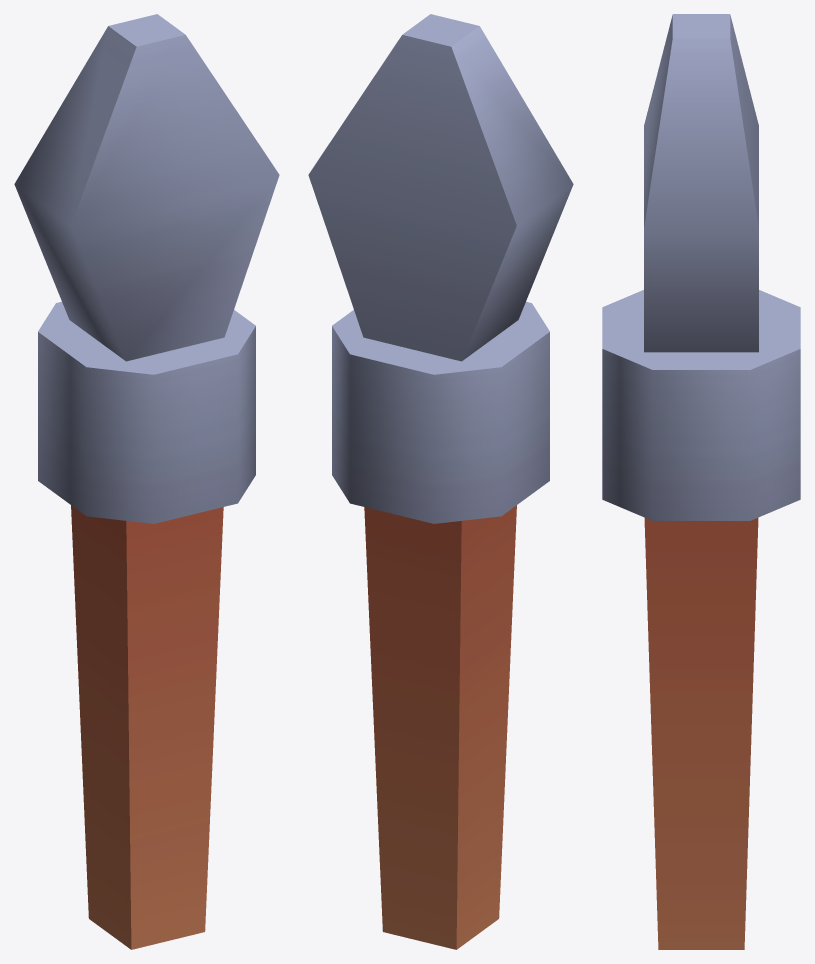
Rendered from arena_spear.glb.
3 views of the same model, side by side, from view 1: azimuth 30°, elevation 25°; view 2: azimuth 150°, elevation 25°; view 3: azimuth 270°, elevation 25° (orthographic).
Parts seen in each view (by area): view 1: weapon-spear; view 2: weapon-spear; view 3: weapon-spear.
Boxes of the visible parts, x1,y1,x2,y2 form: weapon-spear: (14, 14, 279, 949); weapon-spear: (308, 14, 573, 949); weapon-spear: (602, 14, 800, 949).
Bounding box in the file's own units: 0.1463 × 0.6 × 0.119.
Materials: 1 (1 with a texture image).
